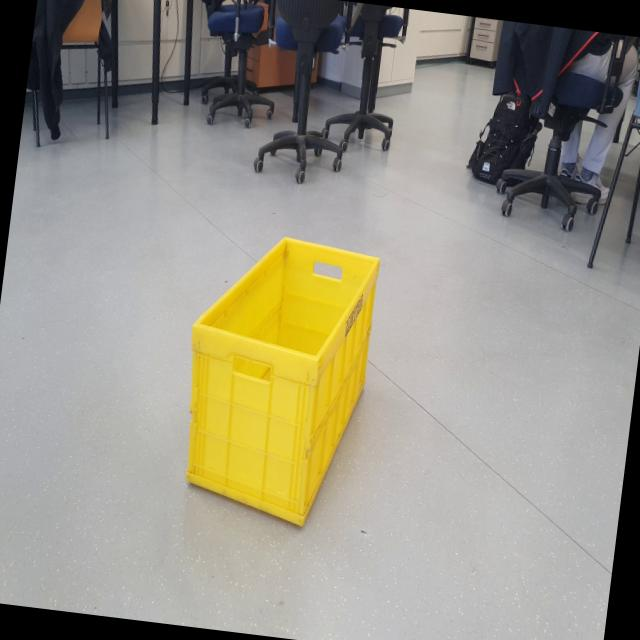box: (152, 213, 387, 542)
